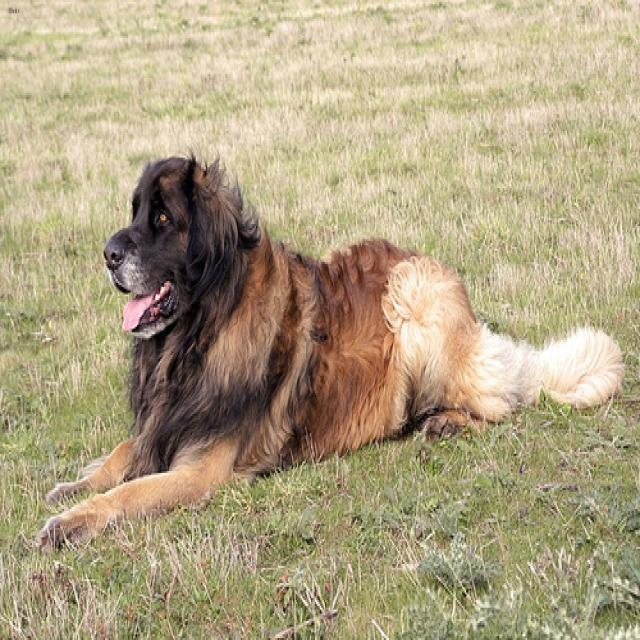dog-leonberger: (29, 137, 630, 558)
